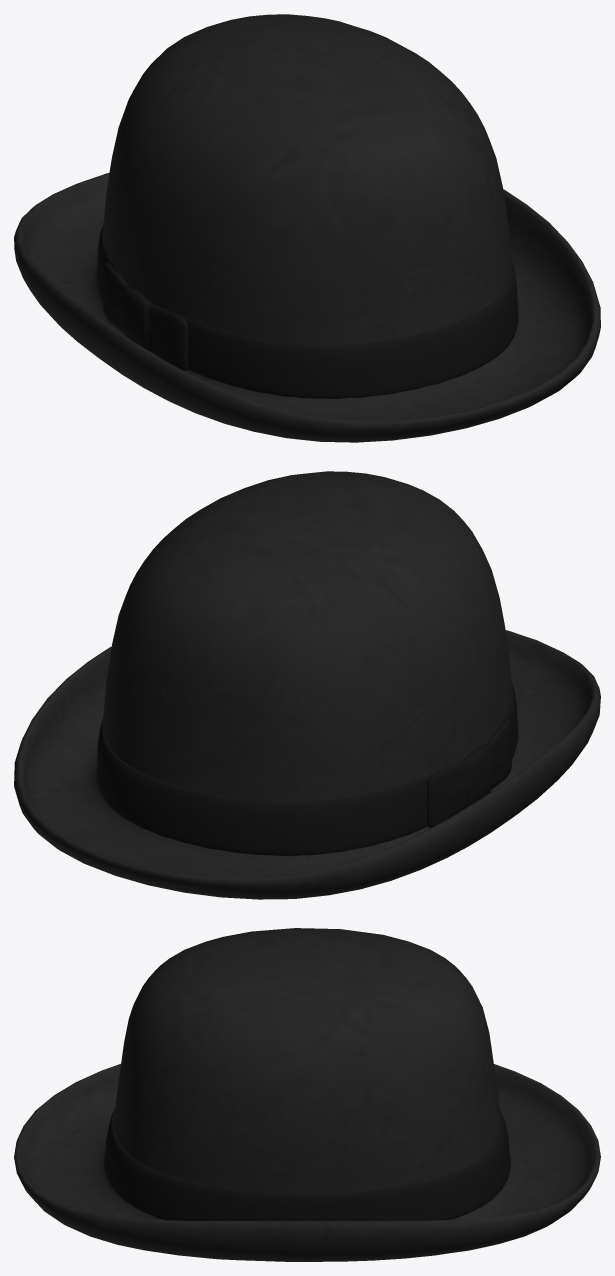
The model's file is hat_bowler.glb.
3 views of the same model, one above another, from view 1: azimuth 30°, elevation 25°; view 2: azimuth 150°, elevation 25°; view 3: azimuth 270°, elevation 25° (orthographic). The views are drawn at different scales.
Visible parts, largest first — view 1: hat_bowler; view 2: hat_bowler; view 3: hat_bowler.
Part boxes in pixels (<box>): hat_bowler: <box>14,14,600,442</box>; hat_bowler: <box>14,471,600,899</box>; hat_bowler: <box>14,928,600,1261</box>.
Bounding box in the file's own units: 0.2292 × 0.1294 × 0.3001.
Materials: 1 (1 with a texture image).
